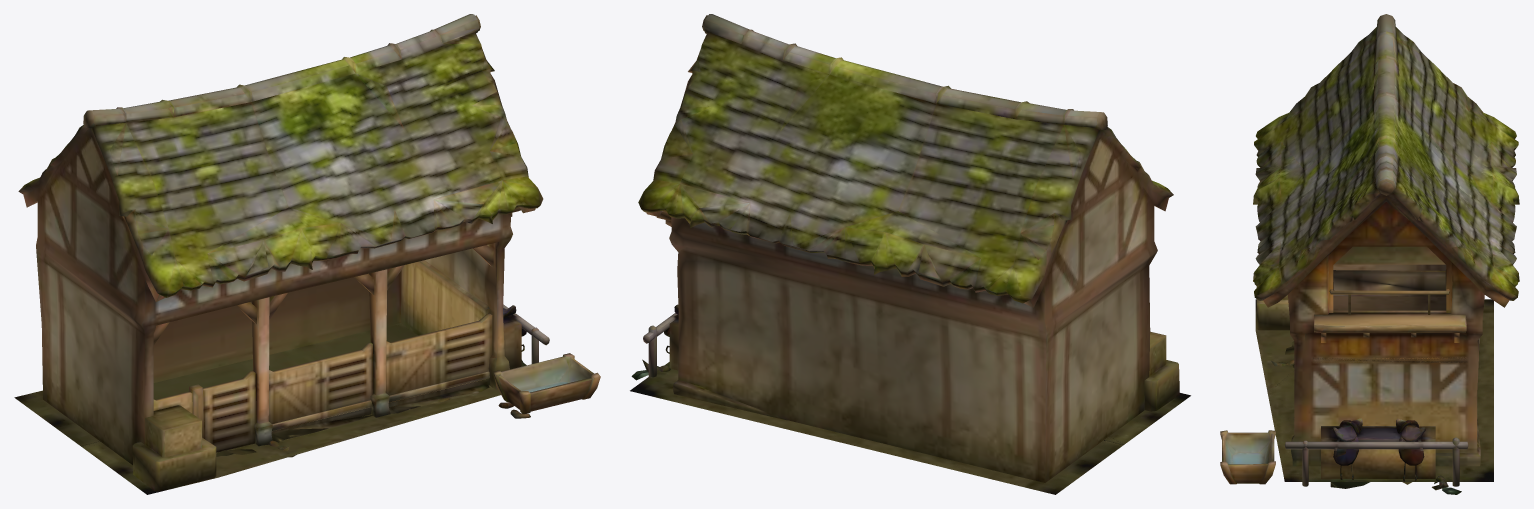
Rendered from civic_stable.glb.
3 views of the same model, side by side, from view 1: azimuth 30°, elevation 25°; view 2: azimuth 150°, elevation 25°; view 3: azimuth 270°, elevation 25° (orthographic). The views are drawn at different scales.
Parts seen in each view (by area): view 1: tripo_node_92e9ca57-0fc4-4041-b1b0-e41640cab752; view 2: tripo_node_92e9ca57-0fc4-4041-b1b0-e41640cab752; view 3: tripo_node_92e9ca57-0fc4-4041-b1b0-e41640cab752.
Part boxes in pixels (x1,y1,x2,y2): tripo_node_92e9ca57-0fc4-4041-b1b0-e41640cab752: [14, 14, 600, 494]; tripo_node_92e9ca57-0fc4-4041-b1b0-e41640cab752: [630, 14, 1190, 494]; tripo_node_92e9ca57-0fc4-4041-b1b0-e41640cab752: [1220, 14, 1519, 494].
Bounding box in the file's own units: 8.18 × 6 × 5.42.
1 material, 1 textured.
